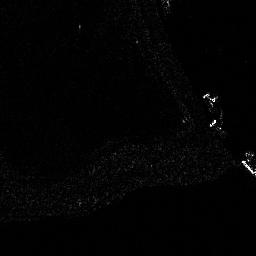ship: (200, 91, 224, 124)
